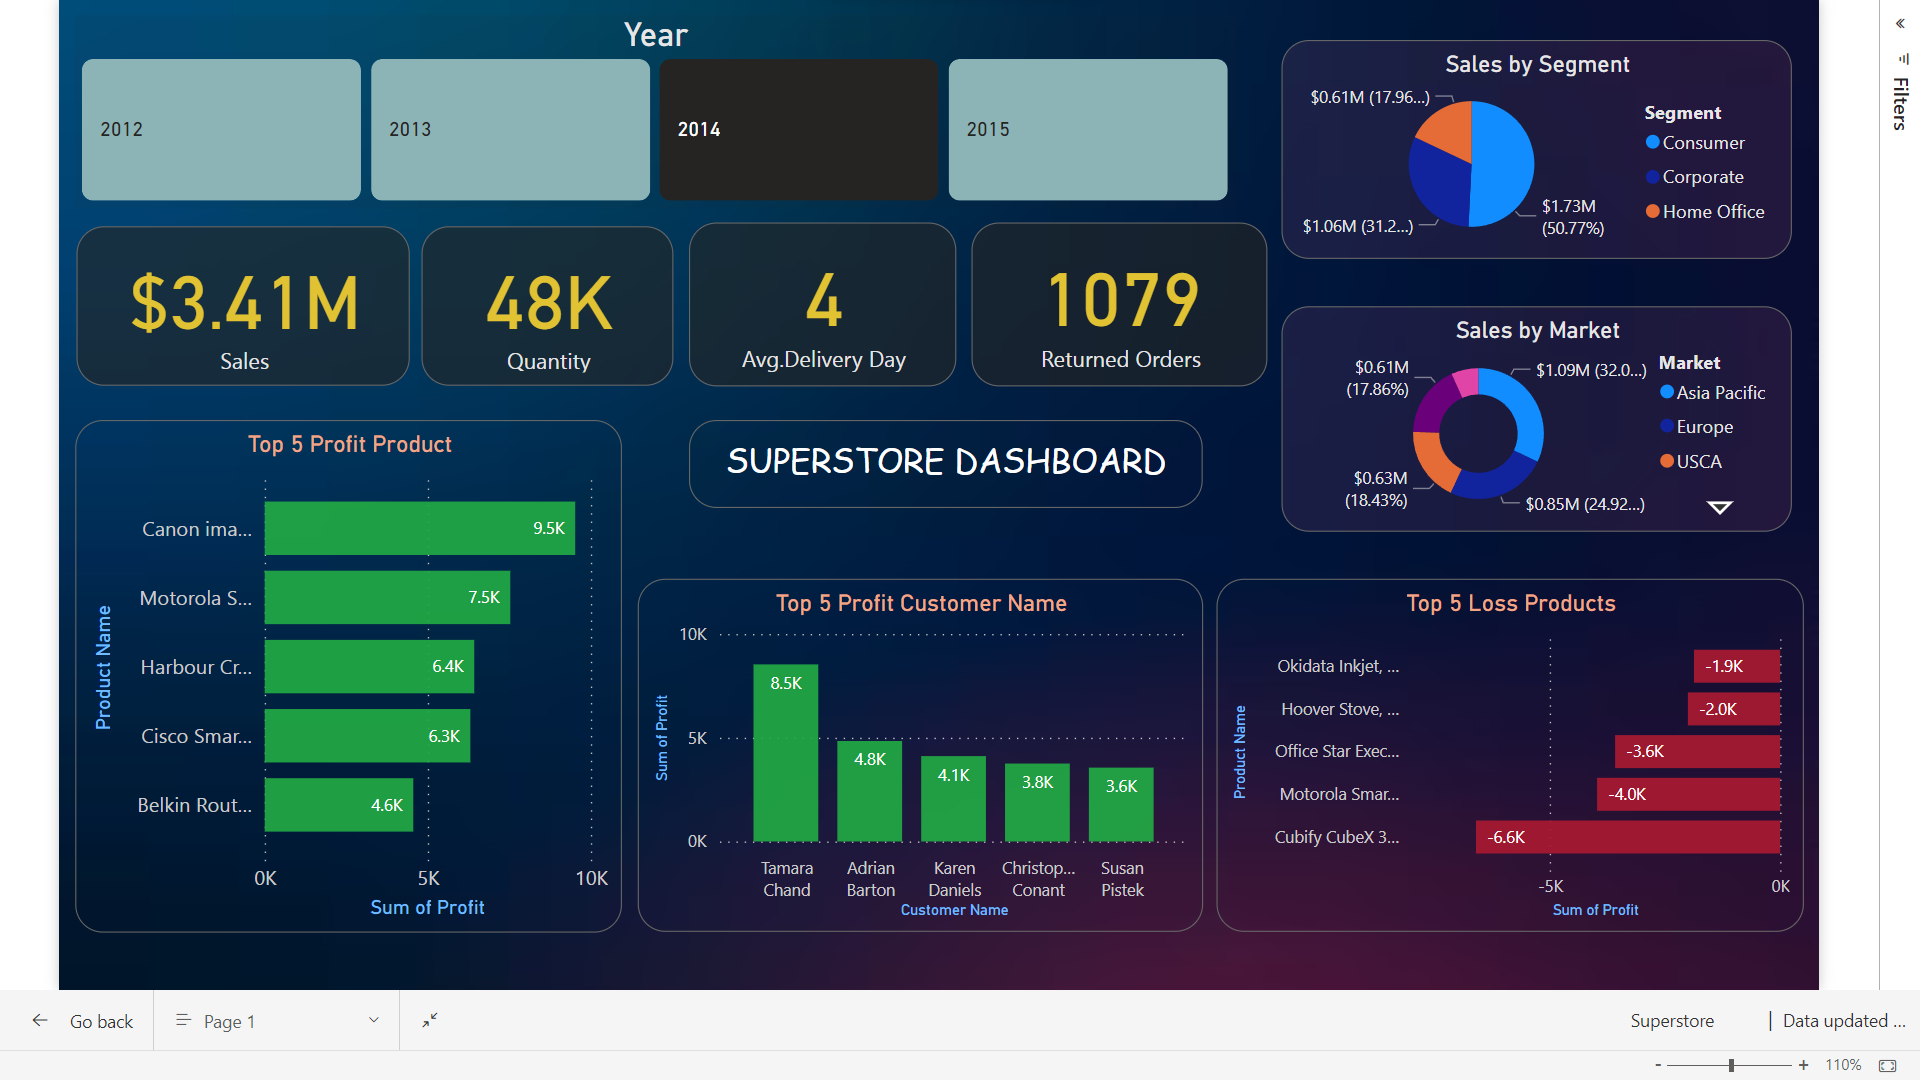

The dashboard page shown, as its layout file describes it:
{"tool":"powerbi","page":{"name":"Page 1","canvas":[1280,720],"ordinal":0},"visuals":[{"type":"card","fields":{"Values":["Sum(Orders.Sales)"]},"box":[12.1,165.2,242.4,115.8],"z":0},{"type":"card","fields":{"Values":["Sum(Orders.Quantity)"]},"box":[262.9,165.2,183.3,115.8],"z":1000},{"type":"card","fields":{"Values":["Avg(Orders.Delivery Days)"]},"box":[458.3,165.2,194.2,118.2],"z":2000},{"type":"advancedSlicerVisual","title":"Year","fields":{"Values":["Orders.Order Year"]},"box":[12.1,10.9,844.2,141.1],"z":3000},{"type":"card","fields":{"Values":["Sum(Returns.Returned Column)"]},"box":[663.3,162.8,215.9,118.2],"z":4000},{"type":"barChart","title":"Top 5 Profit Product","fields":{"Category":["Orders.Product Name"],"Y":["Sum(Orders.Profit)"]},"box":[12.1,305.1,398,372.7],"z":5000},{"type":"barChart","title":"Top 5 Loss Products","fields":{"Category":["Orders.Product Name"],"Y":["Sum(Orders.Profit)"]},"box":[841.8,420.9,426.9,256.9],"z":6000},{"type":"pieChart","title":"Sales by Segment","fields":{"Category":["Orders.Segment"],"Y":["Sum(Orders.Sales)"]},"box":[888.8,28.9,371.5,159.2],"z":7000},{"type":"donutChart","title":"Sales by Market","fields":{"Y":["Sum(Orders.Sales)"],"Category":["Orders.Market"]},"box":[888.8,223.1,371.5,164],"z":8000},{"type":"columnChart","title":"Top 5 Profit Customer Name","fields":{"Category":["Orders.Customer Name"],"Y":["Sum(Orders.Profit)"]},"box":[420.9,420.9,411.3,256.9],"z":9000},{"type":"textbox","box":[458.3,305.1,373.9,63.9],"z":10000}]}

Visuals, with their boxes on the page's 1280x720 design canvas (x1, y1, x2, y2). These are canvas units, not pixel positions in the 1920x1080 screenshot, which may show the page scaled, cropped or inside an application window:
card - Sum(Orders.Sales): pyautogui.locateOnScreen(12, 165, 254, 281)
card - Sum(Orders.Quantity): pyautogui.locateOnScreen(263, 165, 446, 281)
card - Avg(Orders.Delivery Days): pyautogui.locateOnScreen(458, 165, 652, 283)
"Year" advancedSlicerVisual: pyautogui.locateOnScreen(12, 11, 856, 152)
card - Sum(Returns.Returned Column): pyautogui.locateOnScreen(663, 163, 879, 281)
"Top 5 Profit Product" barChart: pyautogui.locateOnScreen(12, 305, 410, 678)
"Top 5 Loss Products" barChart: pyautogui.locateOnScreen(842, 421, 1269, 678)
"Sales by Segment" pieChart: pyautogui.locateOnScreen(889, 29, 1260, 188)
"Sales by Market" donutChart: pyautogui.locateOnScreen(889, 223, 1260, 387)
"Top 5 Profit Customer Name" columnChart: pyautogui.locateOnScreen(421, 421, 832, 678)
textbox: pyautogui.locateOnScreen(458, 305, 832, 369)
